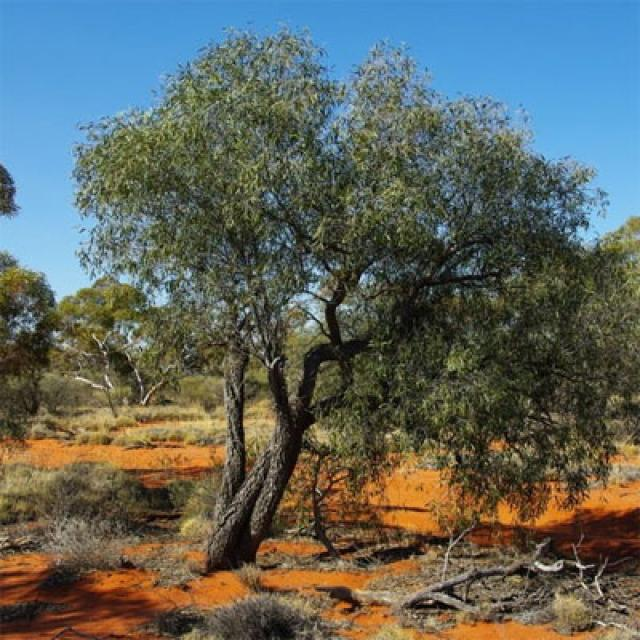Medicinal-Sandalwood: (64, 22, 586, 567)
